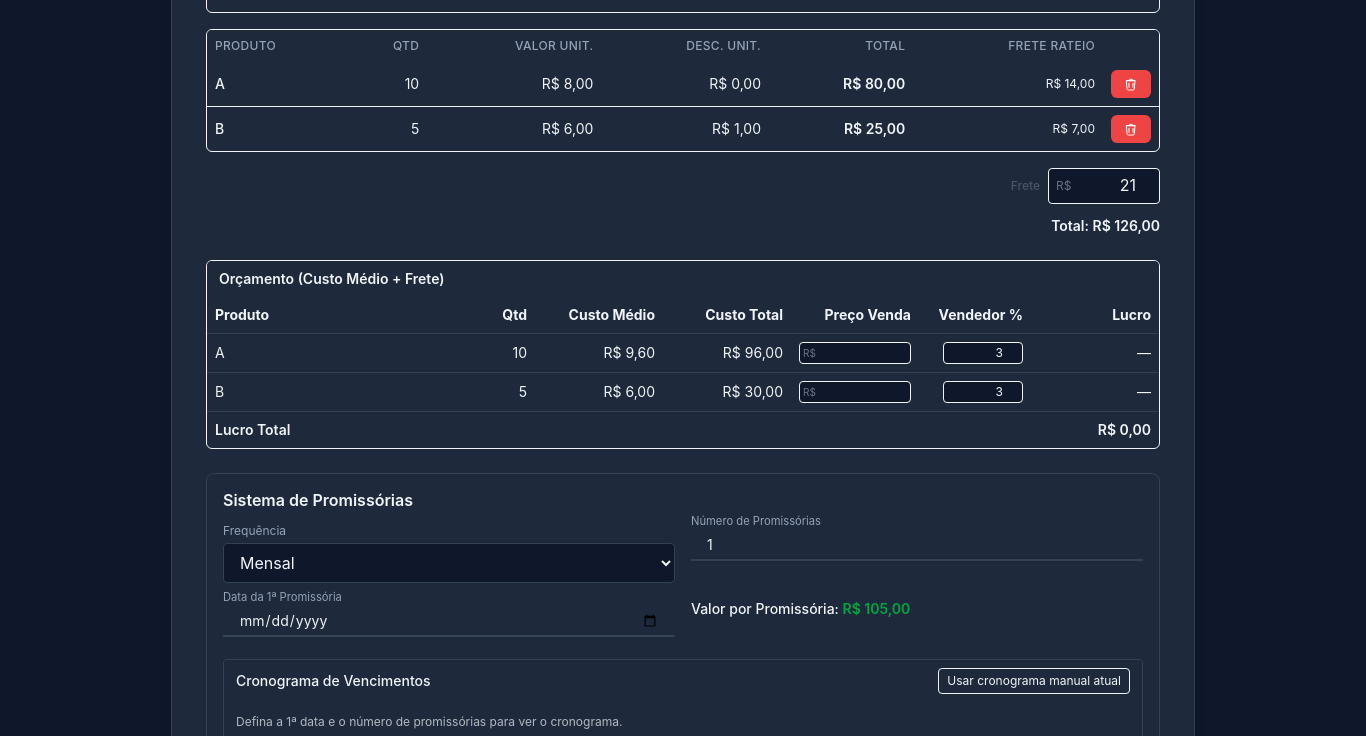
fallback utiliza preco - desconto e calcula lucro líquido com comissão vendedor 3%
This screenshot has width=1366, height=736.
(page scrolled)
Check: the element with test id "orcamento-compra" is shown, box left=206, top=260, right=1160, bottom=449
Check: the cell with test id "orc-qtd-1" reads "10", box left=512, top=344, right=527, bottom=361
Type "12" into the number field with test id "orc-pv-1".
click(855, 353); type("12")  # box left=799, top=342, right=911, bottom=364
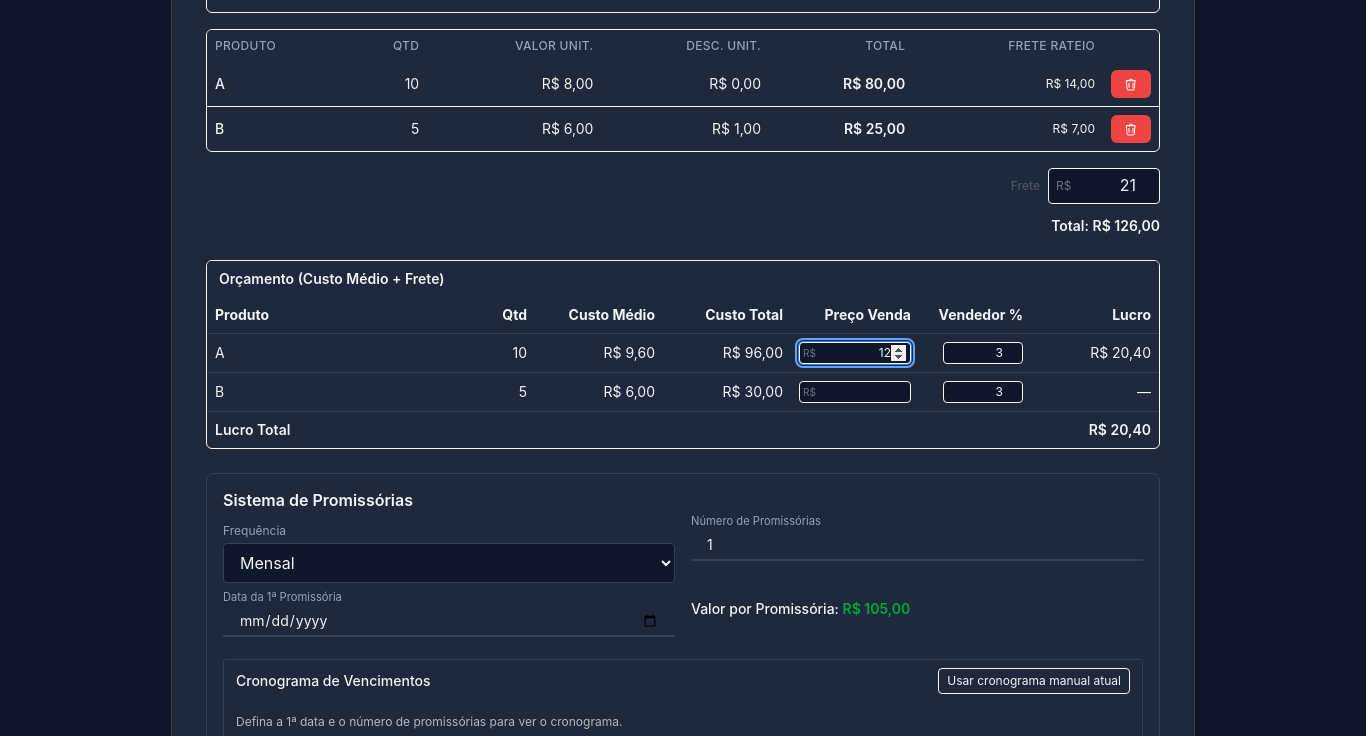
Type "11" into the number field with test id "orc-pv-2".
click(855, 392); type("11")  # box left=799, top=381, right=911, bottom=403
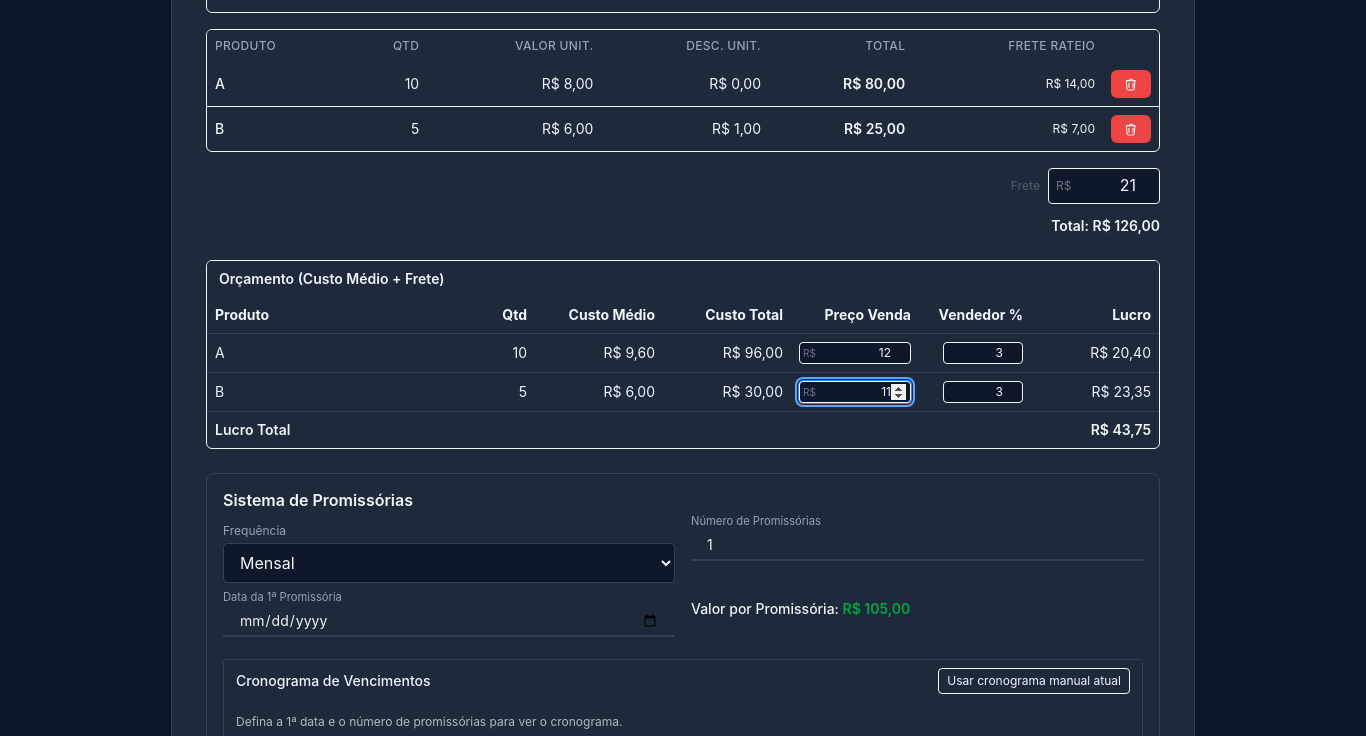
Check: the cell with test id "orc-lucro-1" reads "R$ 20,40", box left=1090, top=344, right=1151, bottom=361
Check: the cell with test id "orc-lucro-2" reads "R$ 23,35", box left=1092, top=383, right=1151, bottom=400
Check: the cell with test id "orc-total-lucro" reads "R$ 43,75", box left=1091, top=421, right=1151, bottom=438
